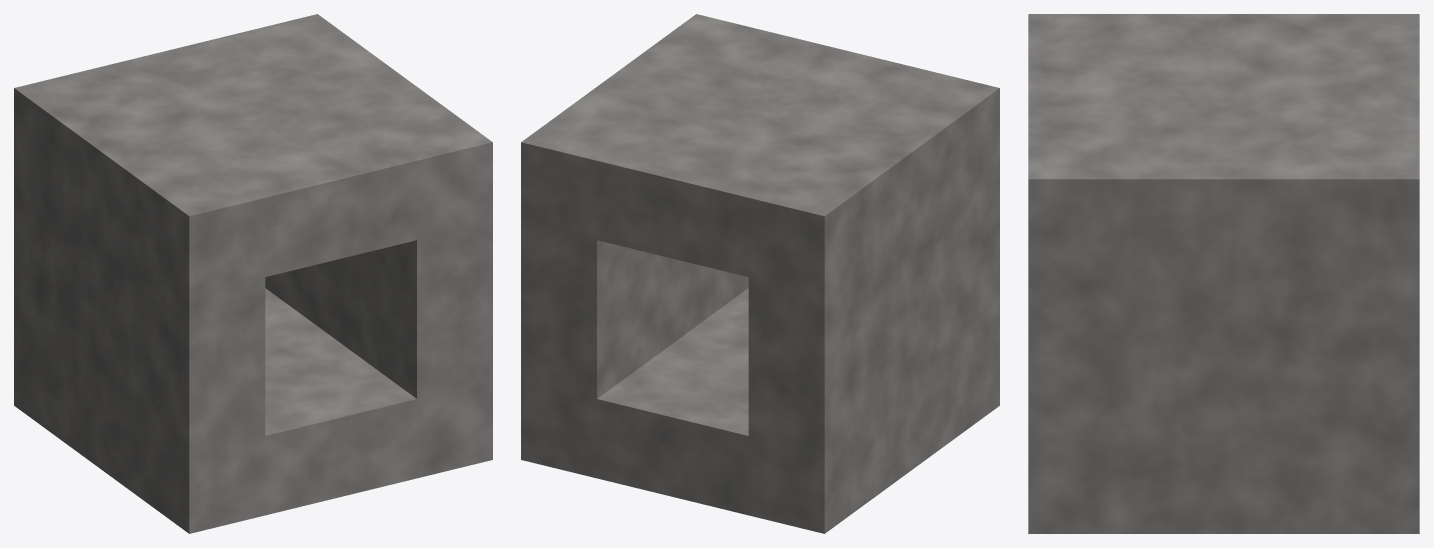
The model's file is mesh-doorway-deepseekv4flash.glb.
The picture shows the model from 3 angles, left to right: view 1: azimuth 30°, elevation 25°; view 2: azimuth 150°, elevation 25°; view 3: azimuth 270°, elevation 25°; orthographic projection. The views are drawn at different scales.
Visible parts, largest first — view 1: Wall; view 2: Wall; view 3: Wall.
Part boxes in pixels (left/top/right/bottom): Wall: left=14, top=14, right=492, bottom=533; Wall: left=521, top=14, right=999, bottom=533; Wall: left=1028, top=14, right=1419, bottom=533.
Size of the model in its own units: 2 by 2 by 2.
Materials: 1 (1 with a texture image).
